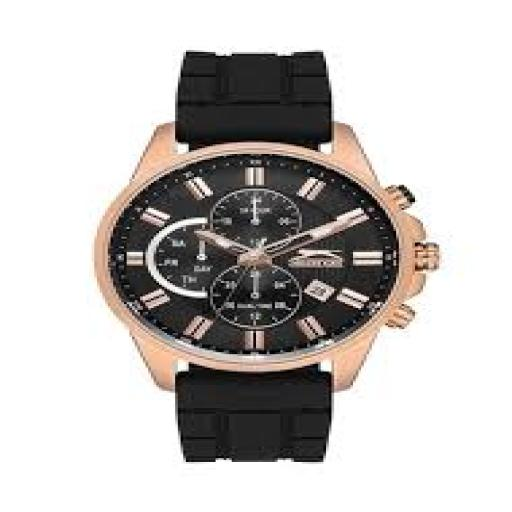KolSaati: (84, 25, 439, 471)
